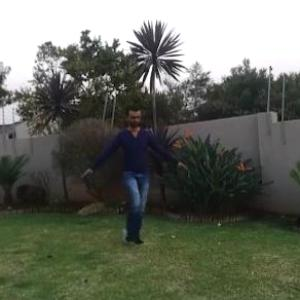land: (85, 104, 189, 235)
